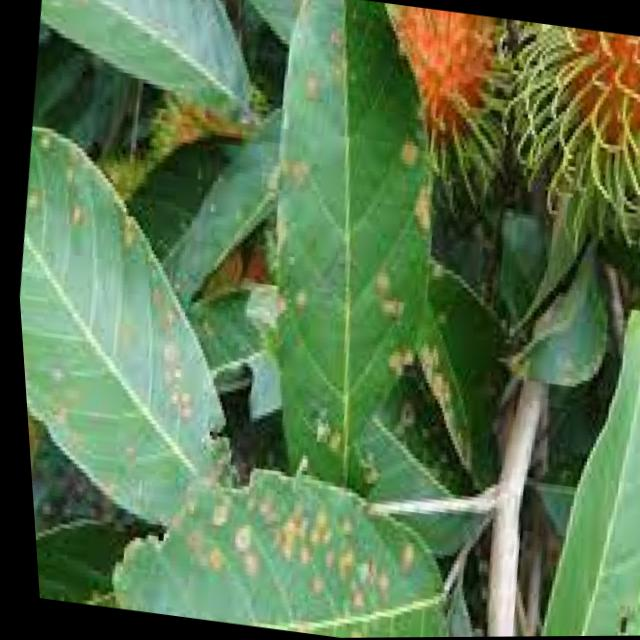Algal Leaf Spot: (261, 497, 417, 616), (119, 267, 223, 428), (365, 338, 477, 450), (194, 509, 256, 588), (357, 254, 411, 328), (289, 53, 333, 127), (272, 151, 326, 209), (397, 178, 440, 245), (277, 263, 319, 326), (306, 401, 347, 458), (25, 122, 63, 169), (397, 118, 427, 175), (55, 184, 85, 237), (285, 616, 331, 639), (335, 623, 369, 638), (22, 188, 34, 216)
